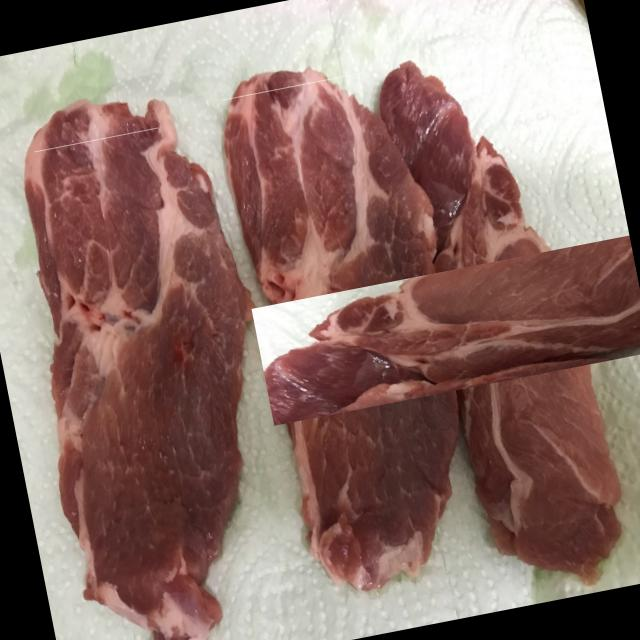beef: (321, 148, 640, 495), (222, 73, 448, 552), (35, 128, 240, 574)
